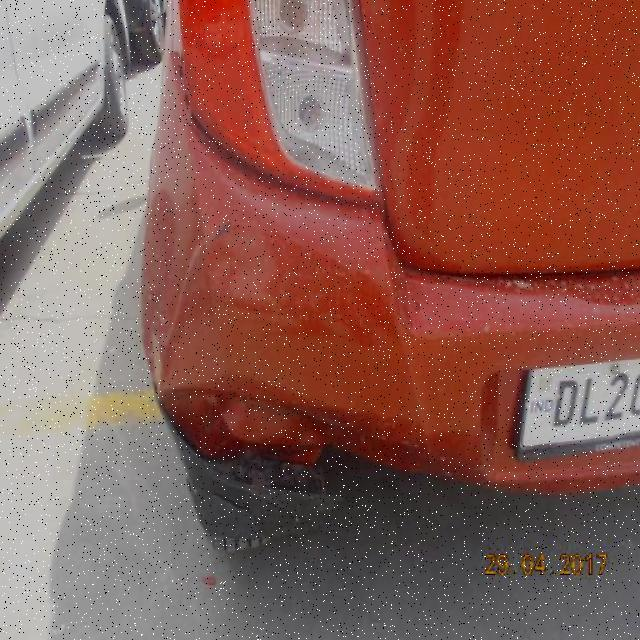car damage: (173, 384, 333, 530), (151, 215, 235, 402), (167, 53, 241, 177)
